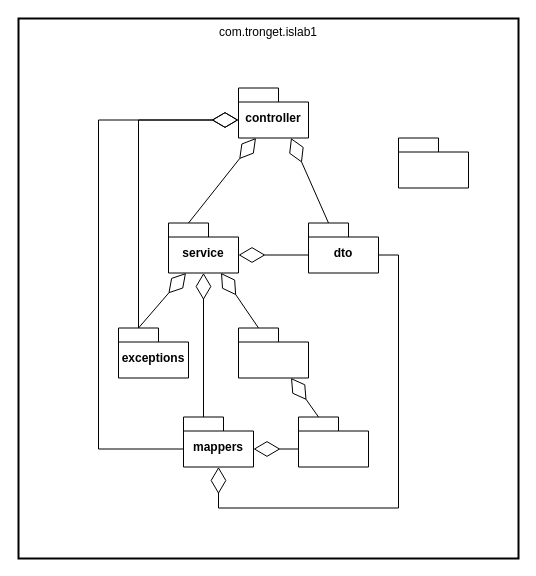
Some shapes in this 536 by 576 pixel diagram are drawn without their labels. Each missing label, with the box of its shape:
config: (398, 137, 468, 188)
models: (298, 416, 368, 467)
repository: (238, 327, 308, 378)
